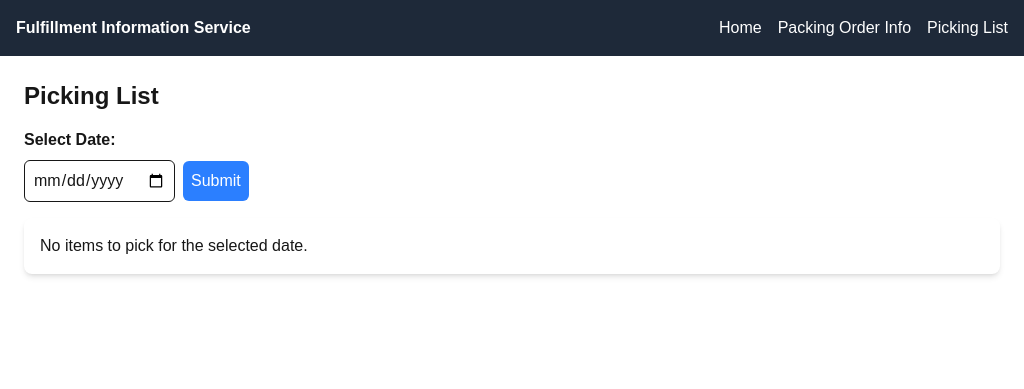
PickingList Component › displays fetched picking list correctly
In the date field labelled "Select Date:": (100, 181) [24,160,175,202], type "2025-04-01"
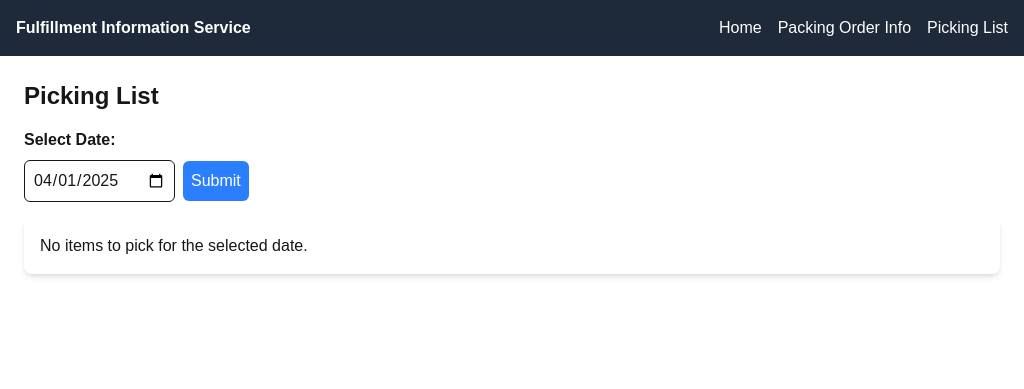
Click the button "Submit": (216, 181) [183,161,249,201]
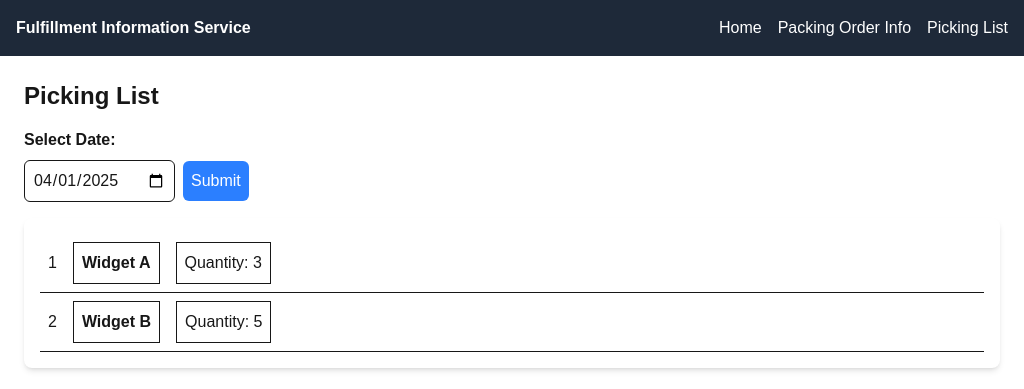
Expected: the text "Widget A" is shown, [82,251,150,275]
Expected: the text "Quantity: 3" is shown, [184,251,262,275]
Expected: the text "Widget B" is shown, [82,310,151,334]
